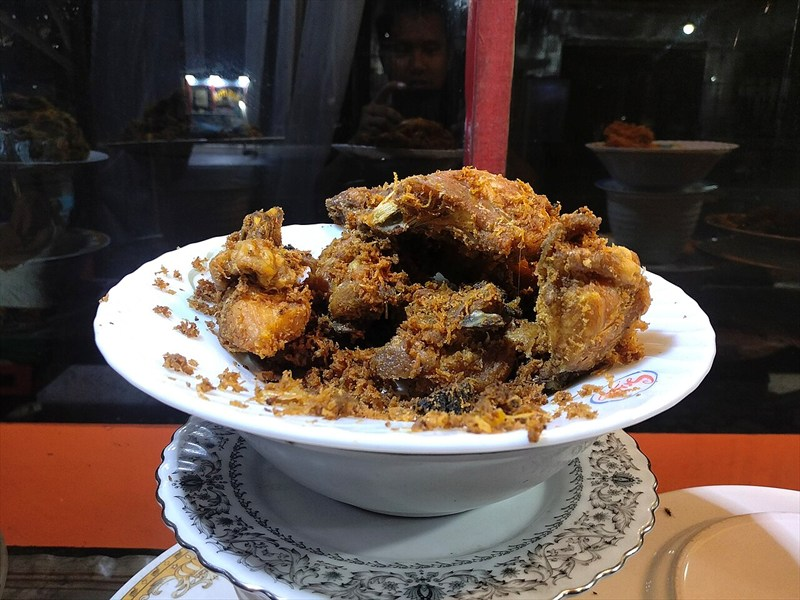Ayam Goreng: (112, 164, 723, 576)
